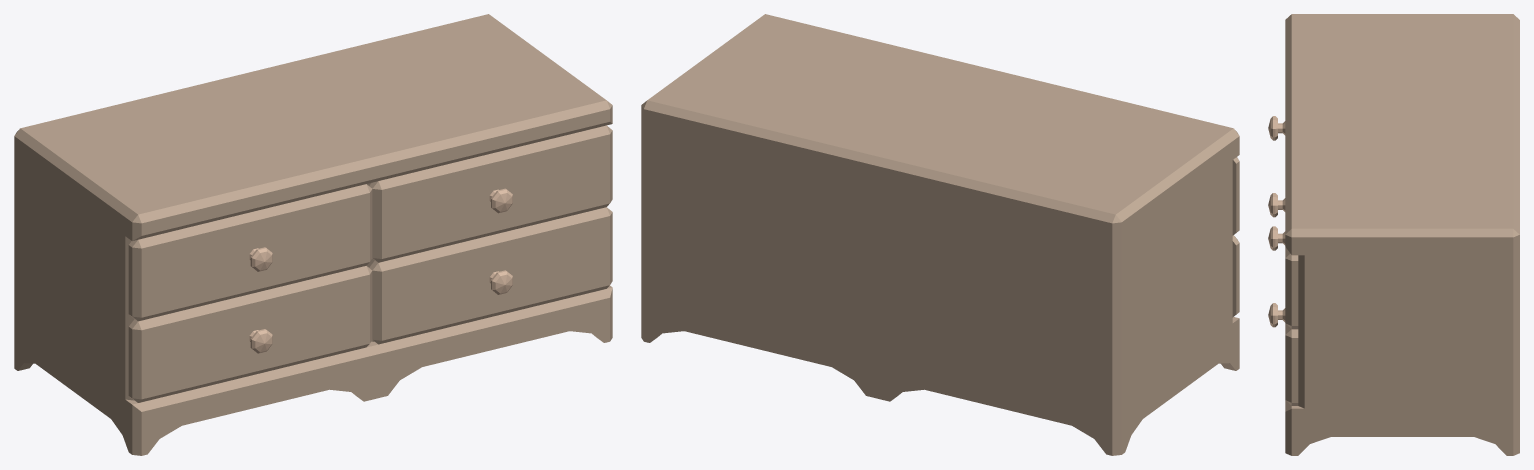
File: Prop_Bedroom_Dresser_Double.glb
3 renders of one model, left to right at view 1: azimuth 30°, elevation 25°; view 2: azimuth 150°, elevation 25°; view 3: azimuth 270°, elevation 25°, orthographic. The views are drawn at different scales.
Visible parts, largest first — view 1: Prop_Bedroom_Dresser_Double; view 2: Prop_Bedroom_Dresser_Double; view 3: Prop_Bedroom_Dresser_Double.
Boxes of the visible parts, left/top/right/bottom form: Prop_Bedroom_Dresser_Double: left=14, top=14, right=612, bottom=455; Prop_Bedroom_Dresser_Double: left=641, top=14, right=1239, bottom=455; Prop_Bedroom_Dresser_Double: left=1268, top=14, right=1519, bottom=455.
Bounding box in the file's own units: 2 × 0.95 × 0.9656.
